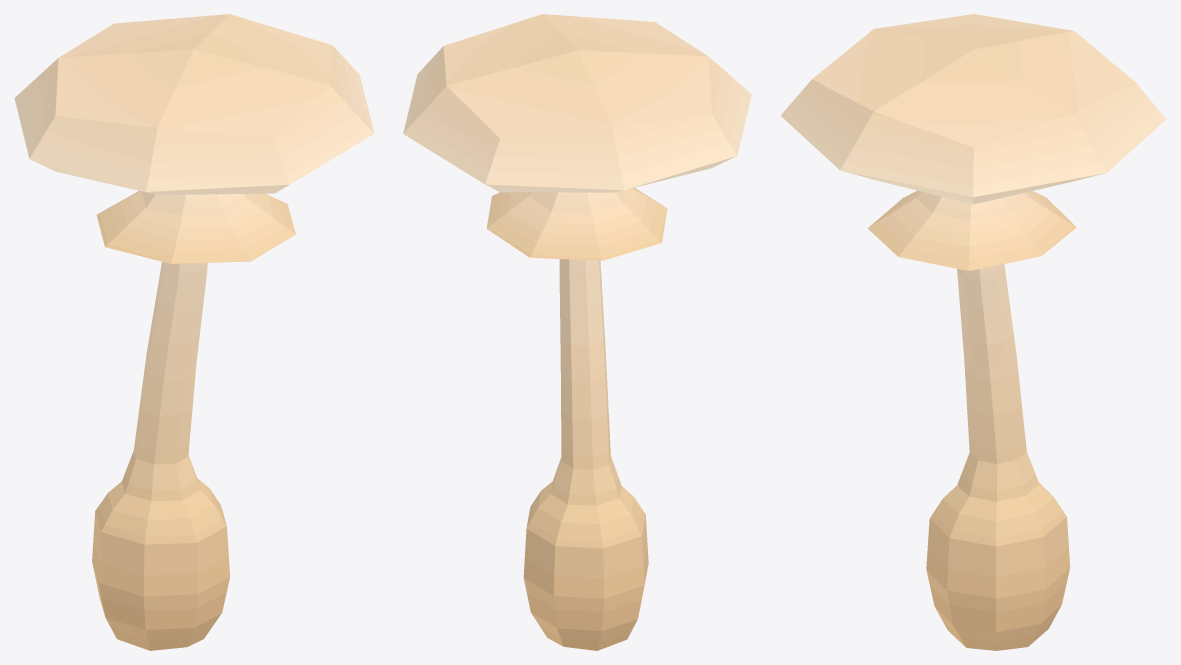
The model's file is Large_DestroyingAngel.glb.
The picture shows the model from 3 angles, left to right: view 1: azimuth 30°, elevation 25°; view 2: azimuth 150°, elevation 25°; view 3: azimuth 270°, elevation 25°; orthographic projection. The views are drawn at different scales.
Parts seen in each view (by area): view 1: DestroyA_large; view 2: DestroyA_large; view 3: DestroyA_large.
Boxes of the visible parts, <box> form: DestroyA_large: <box>14,14,374,650</box>; DestroyA_large: <box>403,14,751,650</box>; DestroyA_large: <box>780,14,1166,650</box>.
Bounding box in the file's own units: 4.18 × 7.23 × 4.18.
Materials: 1 (1 with a texture image).
